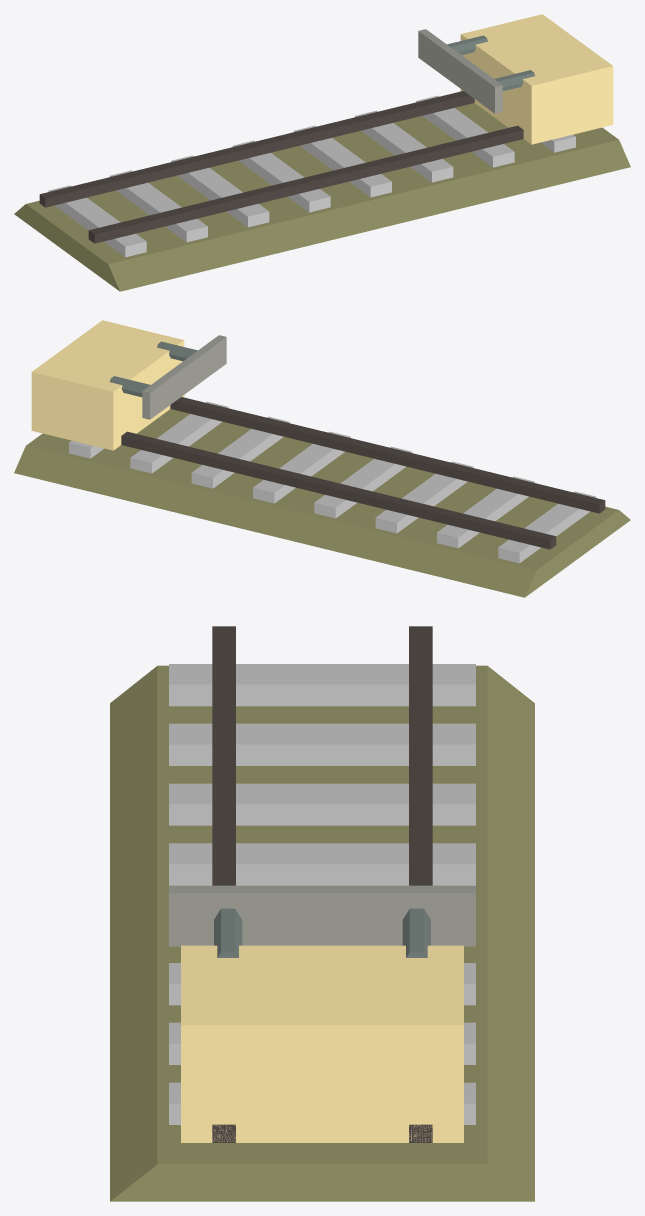
The model's file is SM_Via_Topera_v0_Hormigon_LOD1.fbx.
The picture shows the model from 3 angles, top to bottom: view 1: azimuth 30°, elevation 25°; view 2: azimuth 150°, elevation 25°; view 3: azimuth 270°, elevation 25°; orthographic projection. The views are drawn at different scales.
Parts seen in each view (by area): view 1: SM_via_trazado_v35_LOD1; view 2: SM_via_trazado_v35_LOD1; view 3: SM_via_trazado_v35_LOD1.
Boxes of the visible parts, x1,y1,x2,y2 form: SM_via_trazado_v35_LOD1: (14,14,630,291); SM_via_trazado_v35_LOD1: (14,320,630,597); SM_via_trazado_v35_LOD1: (110,626,534,1201).
Size of the model in its own units: 10 by 1.85 by 3.6.
